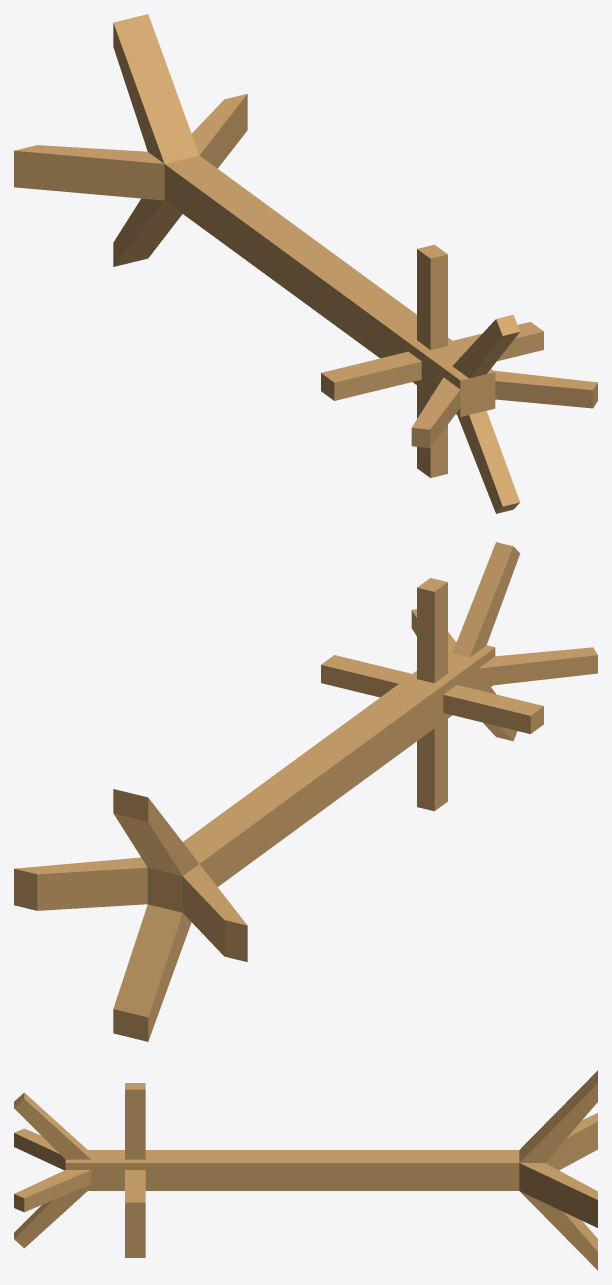
The model's file is coat-rack.obj.
3 renders of one model, top to bottom at view 1: azimuth 30°, elevation 25°; view 2: azimuth 150°, elevation 25°; view 3: azimuth 270°, elevation 25°, orthographic. The views are drawn at different scales.
Parts seen in each view (by area): view 1: coat-rack; view 2: coat-rack; view 3: coat-rack.
Boxes of the visible parts, left/top/right/bottom form: coat-rack: left=14, top=14, right=597, bottom=513; coat-rack: left=14, top=542, right=597, bottom=1041; coat-rack: left=14, top=1070, right=597, bottom=1270.
Size of the model in its own units: 24.45 by 24.45 by 69.
